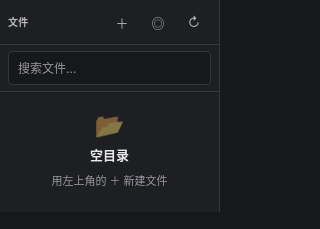
Test: FilePanel 文件树 › 显示隐藏文件开关：默认关，打开后重新拉取并展示点文件
The width and height of the screenshot is (320, 229).
Check: the text "空目录" is shown, box [90,146,129,166]
Click the button named "显示隐藏文件": (158, 22) [141,5,175,39]
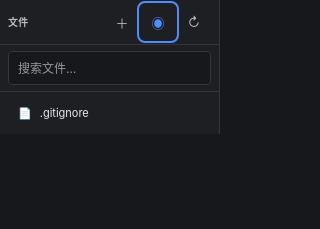
Check: the text ".gitignore" is shown, box [40,106,89,120]
